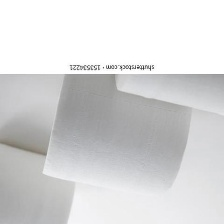tissue: (36, 74, 198, 207), (0, 138, 83, 224), (109, 73, 224, 123)
